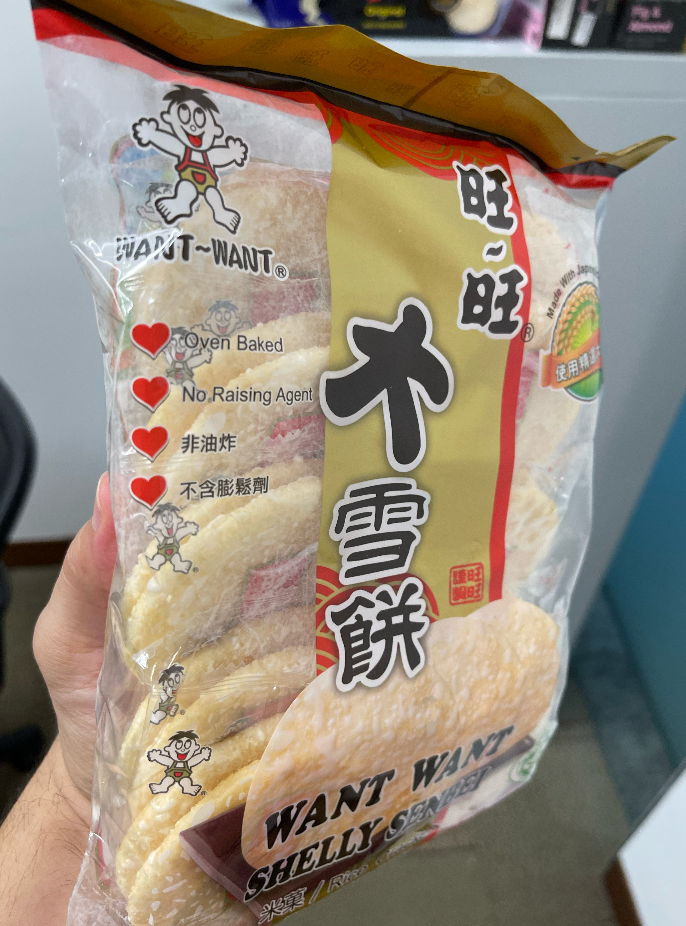crackers_100g-199g: (137, 86, 548, 831)
